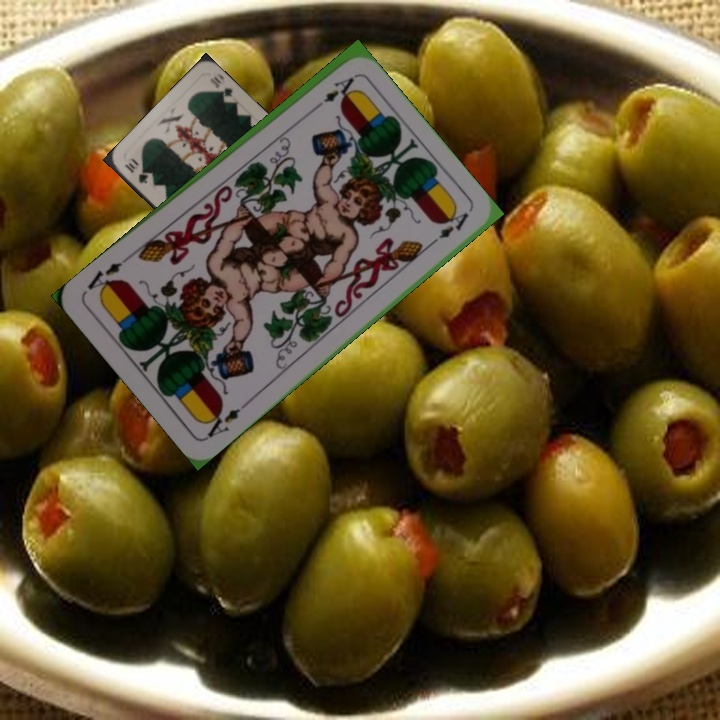EA: (200, 398, 251, 441), (307, 72, 357, 115)
G10: (120, 155, 151, 186)
